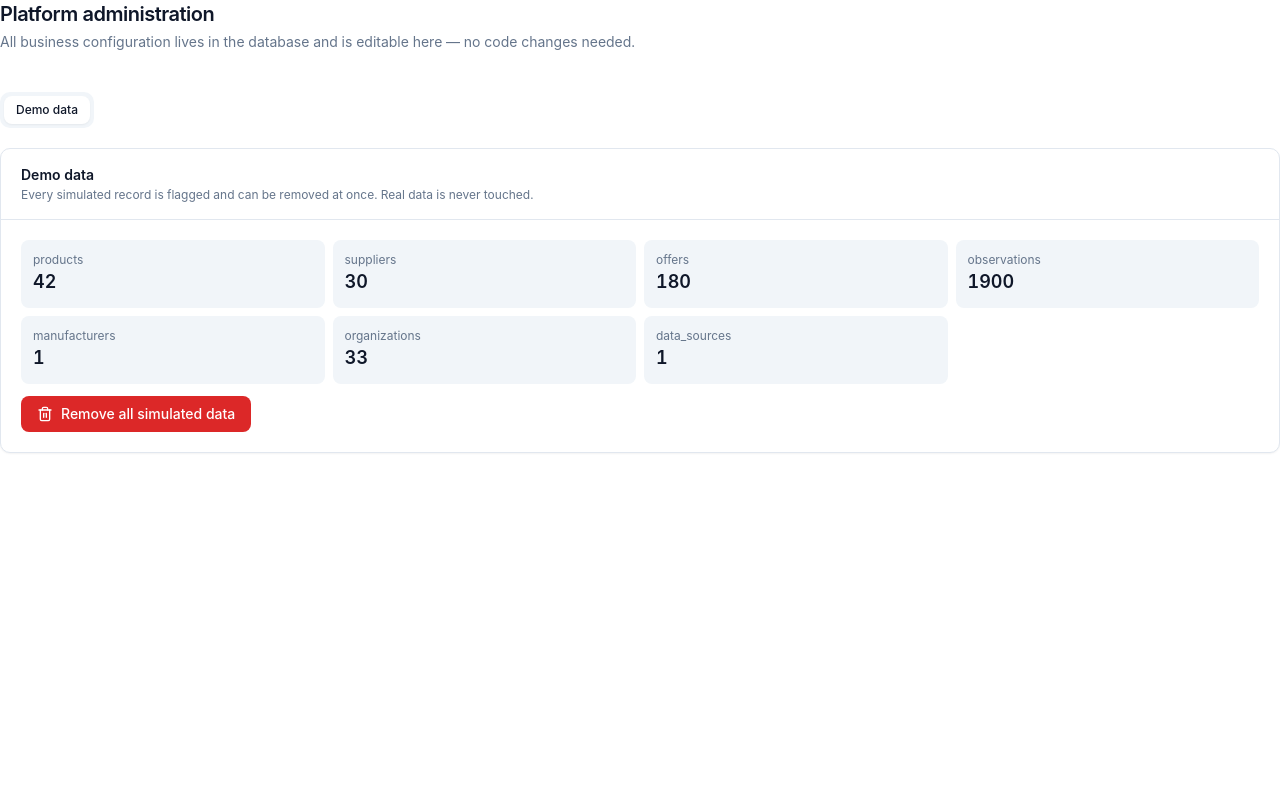
Test case: admin actions › purges simulated data only after confirmation
Click the button "Remove all simulated data": [136, 414] box [21,396,251,432]
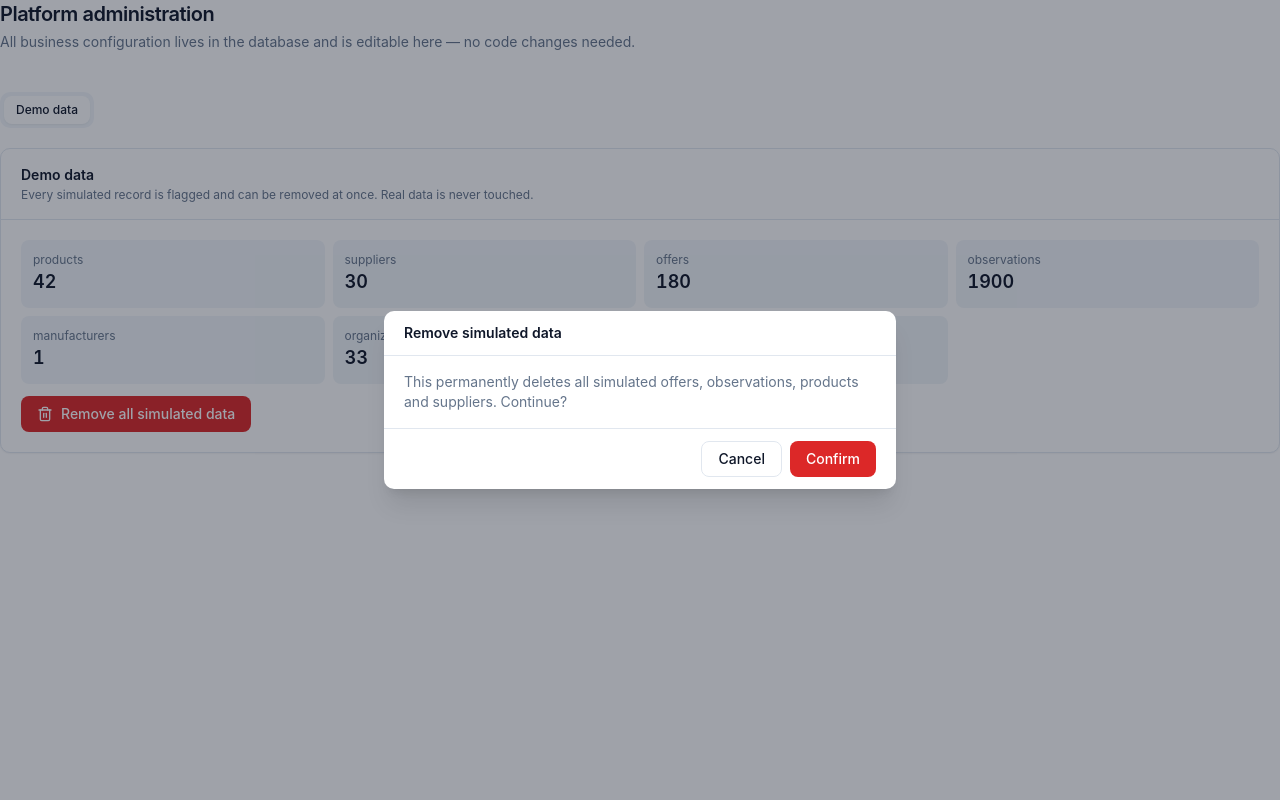
Click the button "Confirm": [833, 459] box [790,441,876,477]
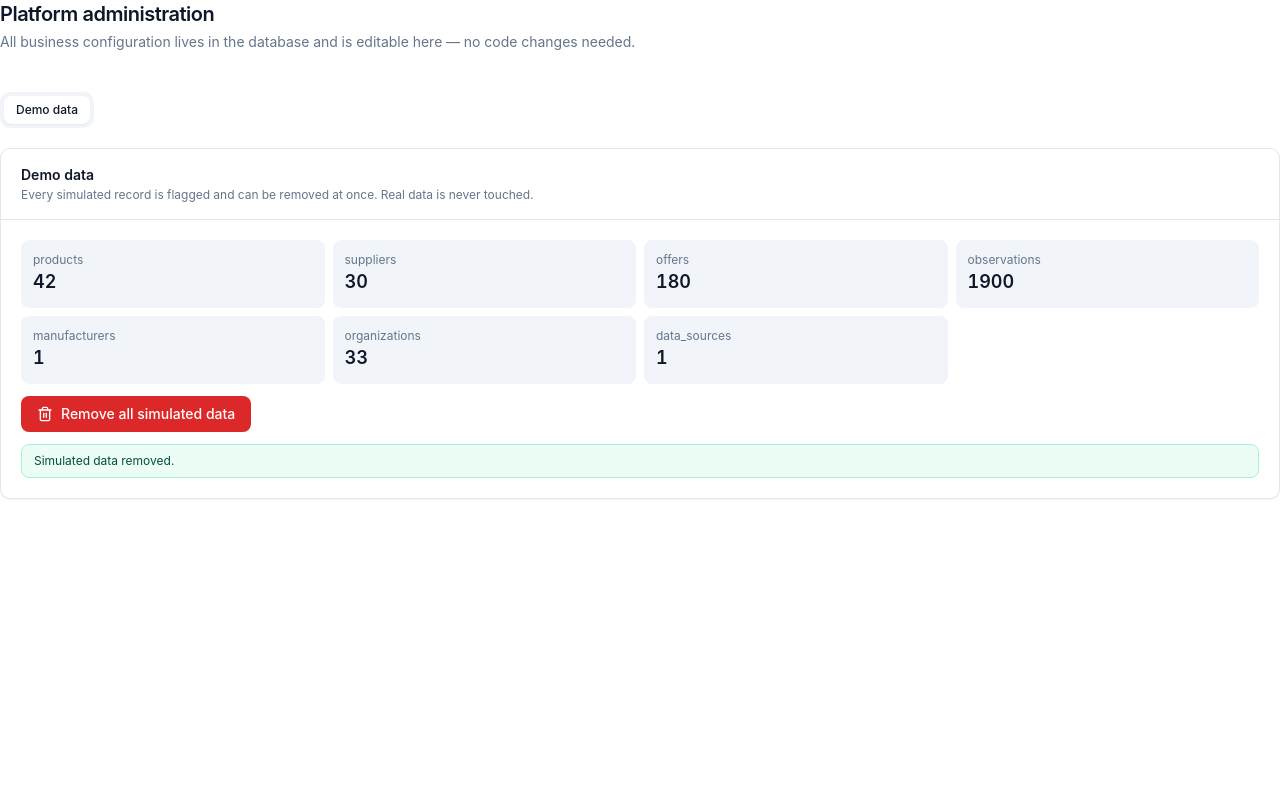
Now the text "Simulated data removed." is shown, box [21,444,1259,478]
